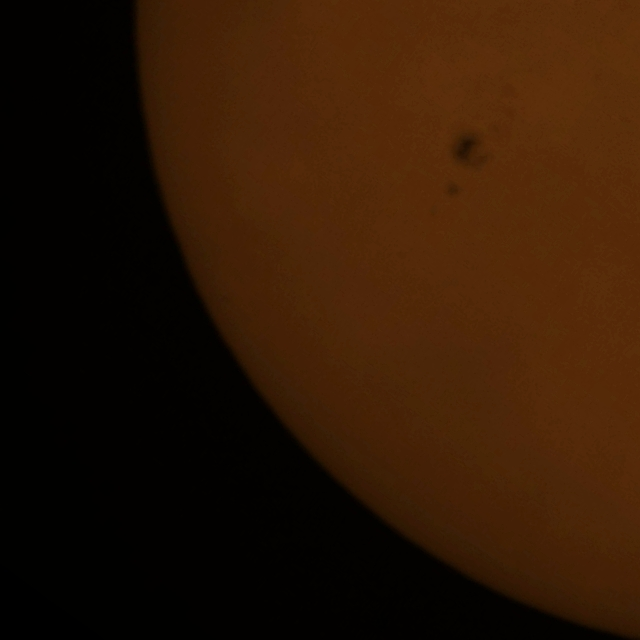sunspot: (446, 127, 499, 168), (438, 179, 469, 204), (503, 80, 532, 106)
